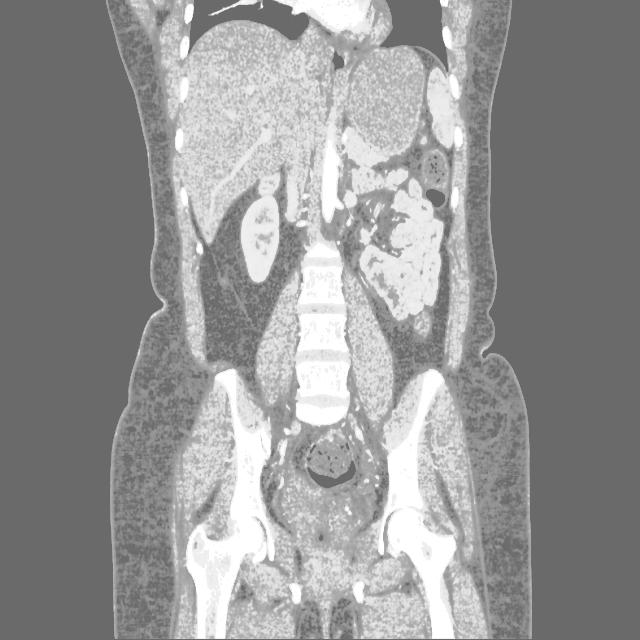NORMAL: (106, 42, 562, 569)
